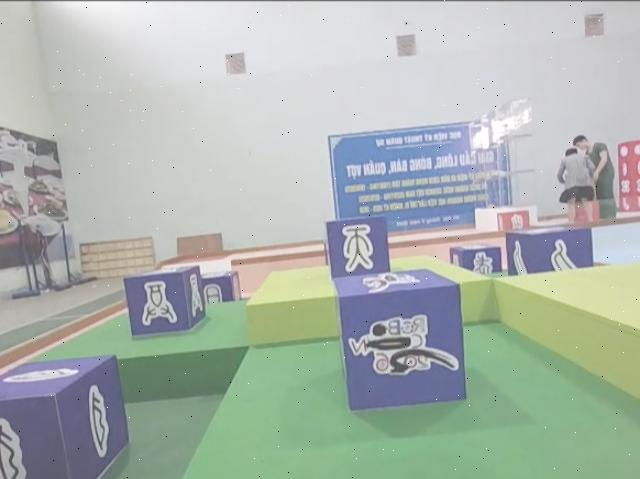R1 Blue: (334, 269, 467, 412)
R2 Fake Blue: (324, 215, 391, 282), (449, 244, 502, 275), (199, 270, 241, 303)
R2 Real Blue: (0, 355, 129, 479), (124, 264, 206, 338), (506, 225, 594, 277)
